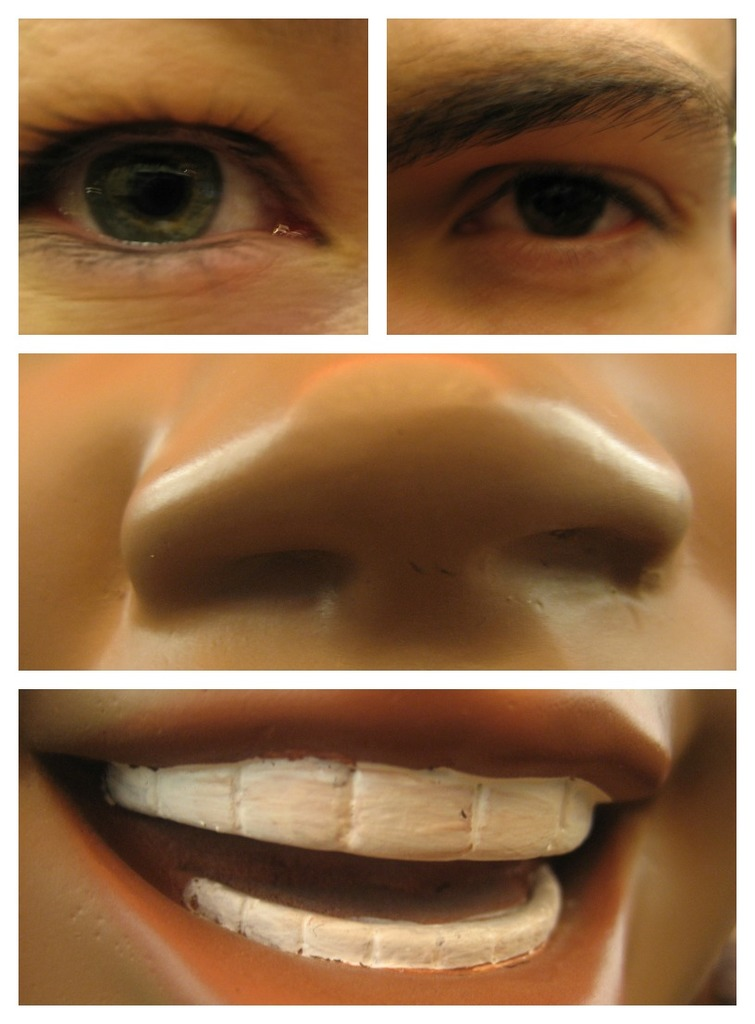Person: (17, 692, 737, 1009), (18, 353, 736, 670), (386, 15, 736, 334), (17, 16, 366, 333)
